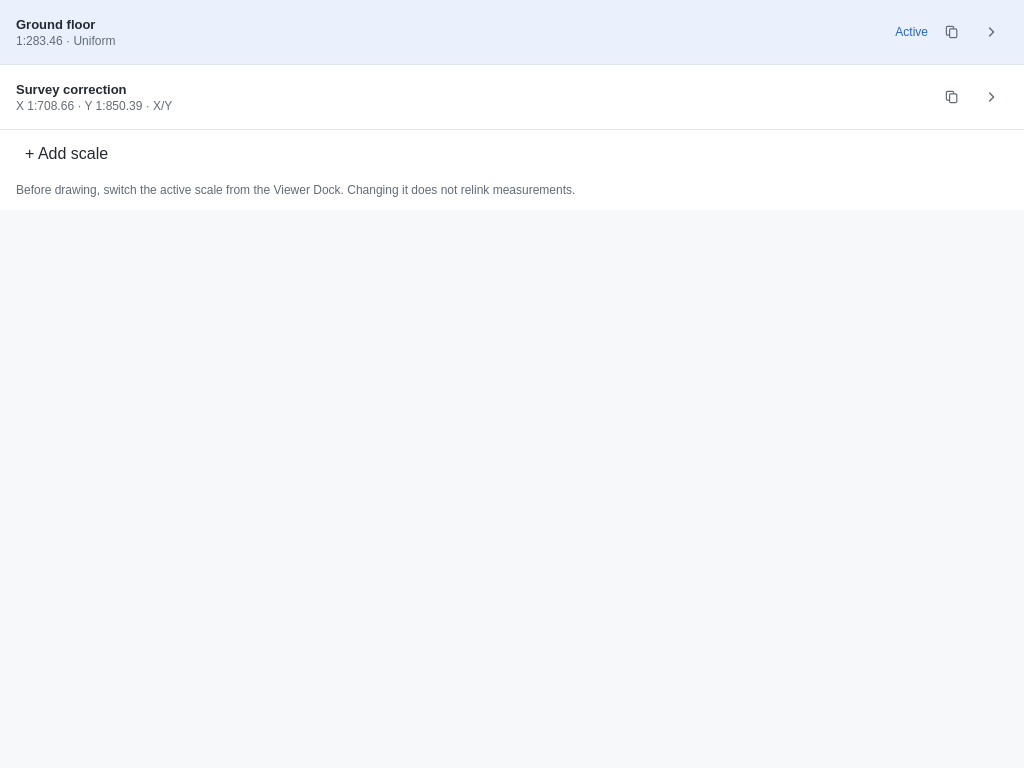
Scenario: ScalesWorkspace › keeps scale inspection available while precision actions are disabled with an accessible reason
Click the button named "Expand scale Ground floor, active". click: (992, 32)
box: [976,16,1008,48]
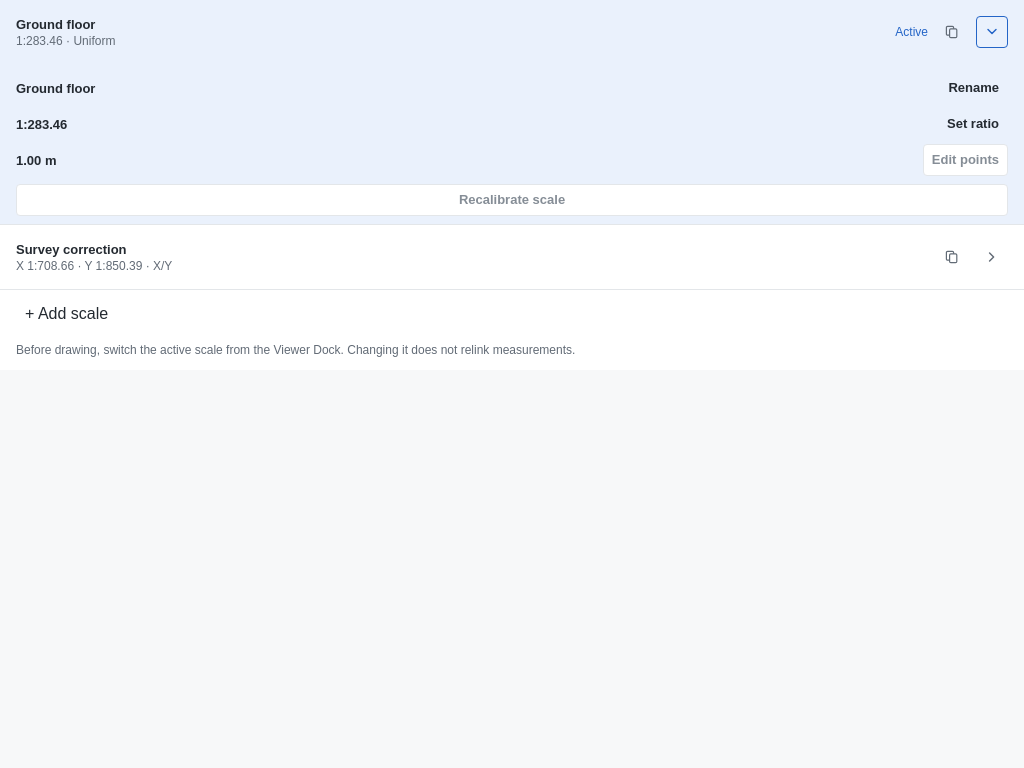
Check: the button "Recalibrate scale" is enabled, box [16,184,1008,216]
Check: the button "Edit points" is enabled, box [923,144,1008,176]
Click the button "+ Add scale". click: (67, 314)
box: [16,298,1008,330]
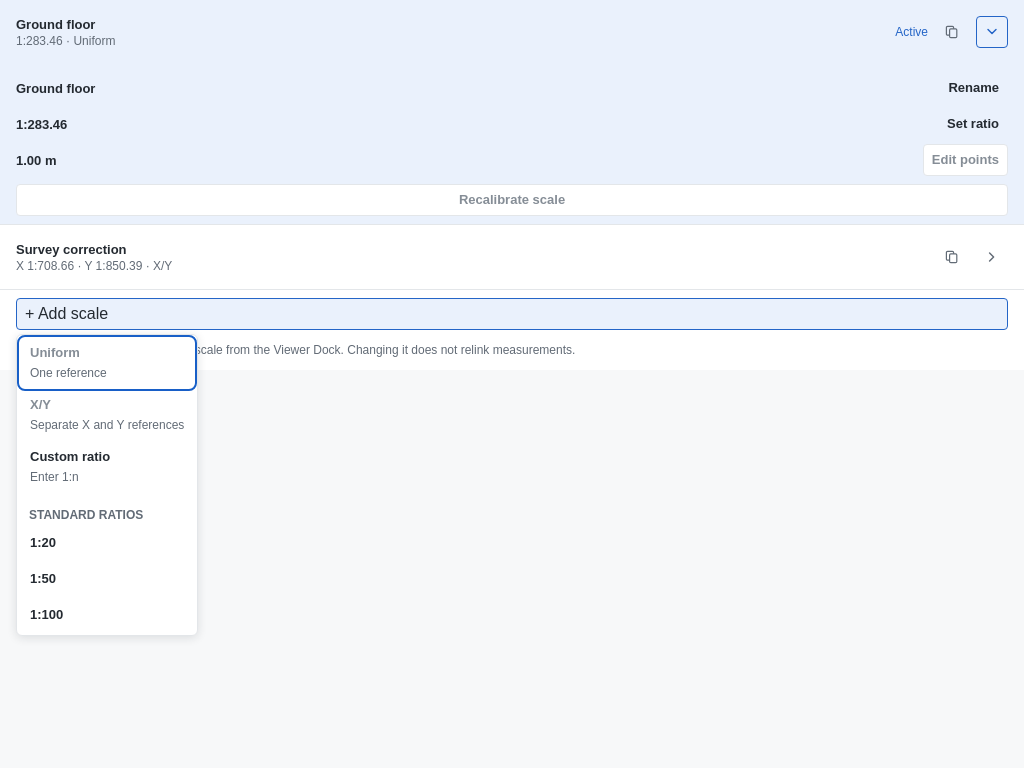
Click the menu item "Custom ratio Enter 1:n". click: (107, 467)
box: [21,443,193,491]
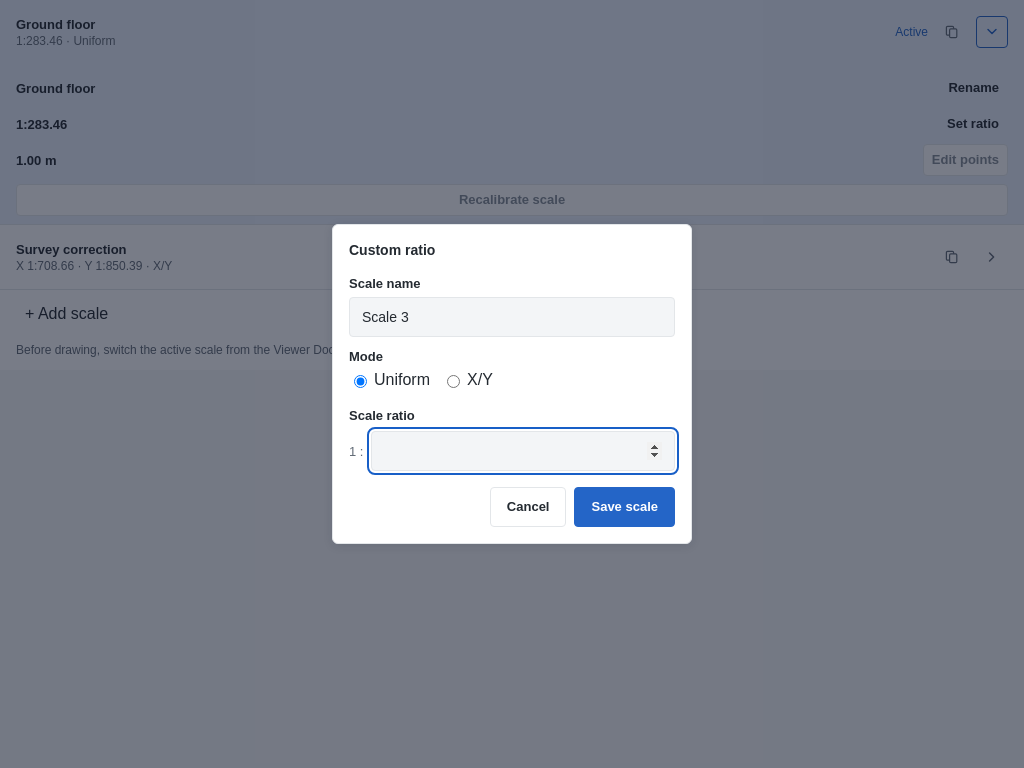
Check: the dialog shows "Custom ratio", box [349,242,435,258]
